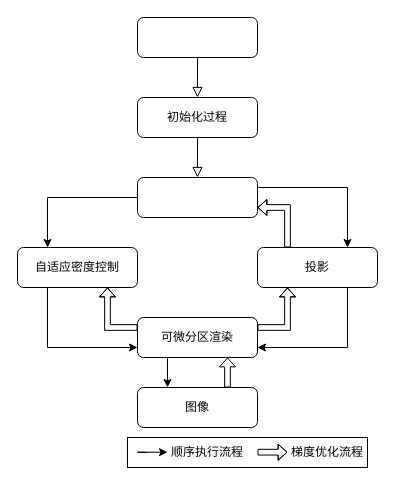
Image size: 395x485. Some labels were removed from this diagram. The shapes that lost their labels are listed below. From the top down, each one's centre as x and y in pixels, then its label:
At (x=197, y=37): "SFM点云".
At (x=197, y=197): "三维高斯体".
